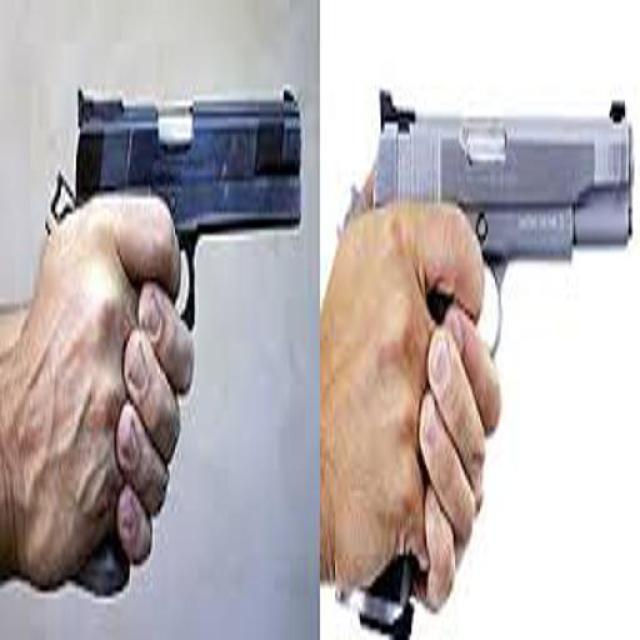pistol: (360, 69, 637, 634), (52, 52, 300, 591)
